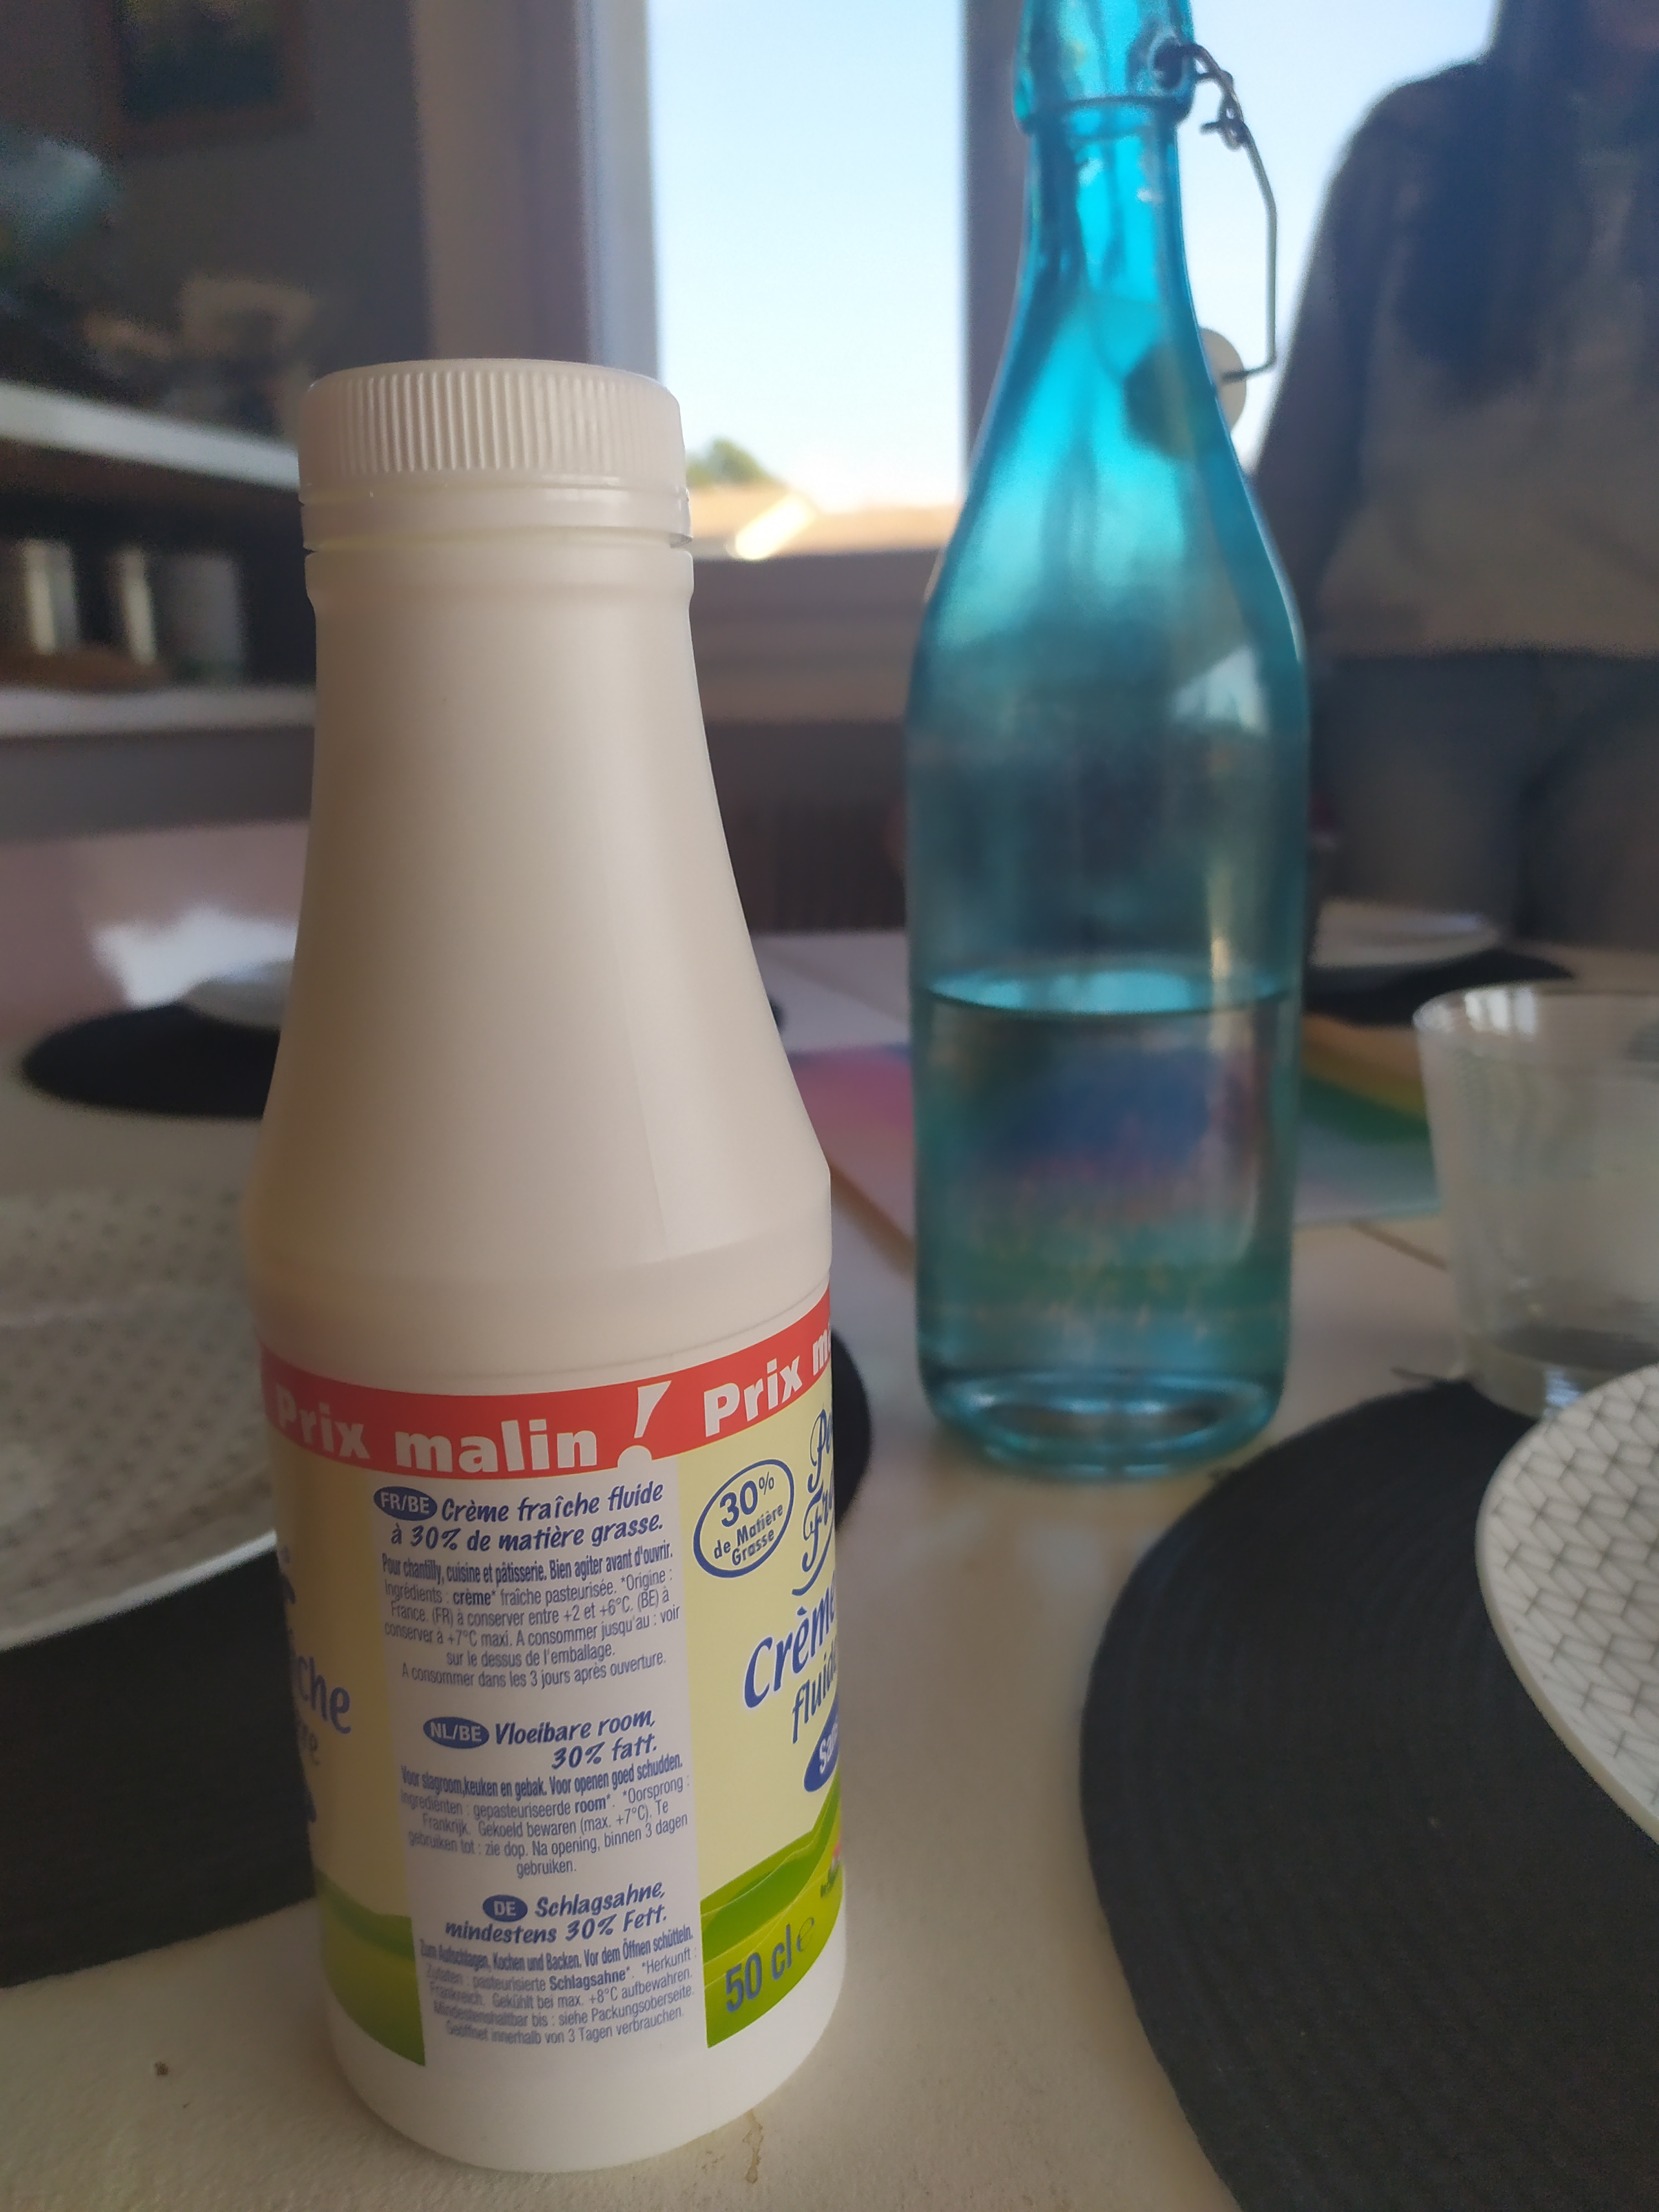bottle: (260, 348, 857, 2181), (908, 0, 1312, 1475)
